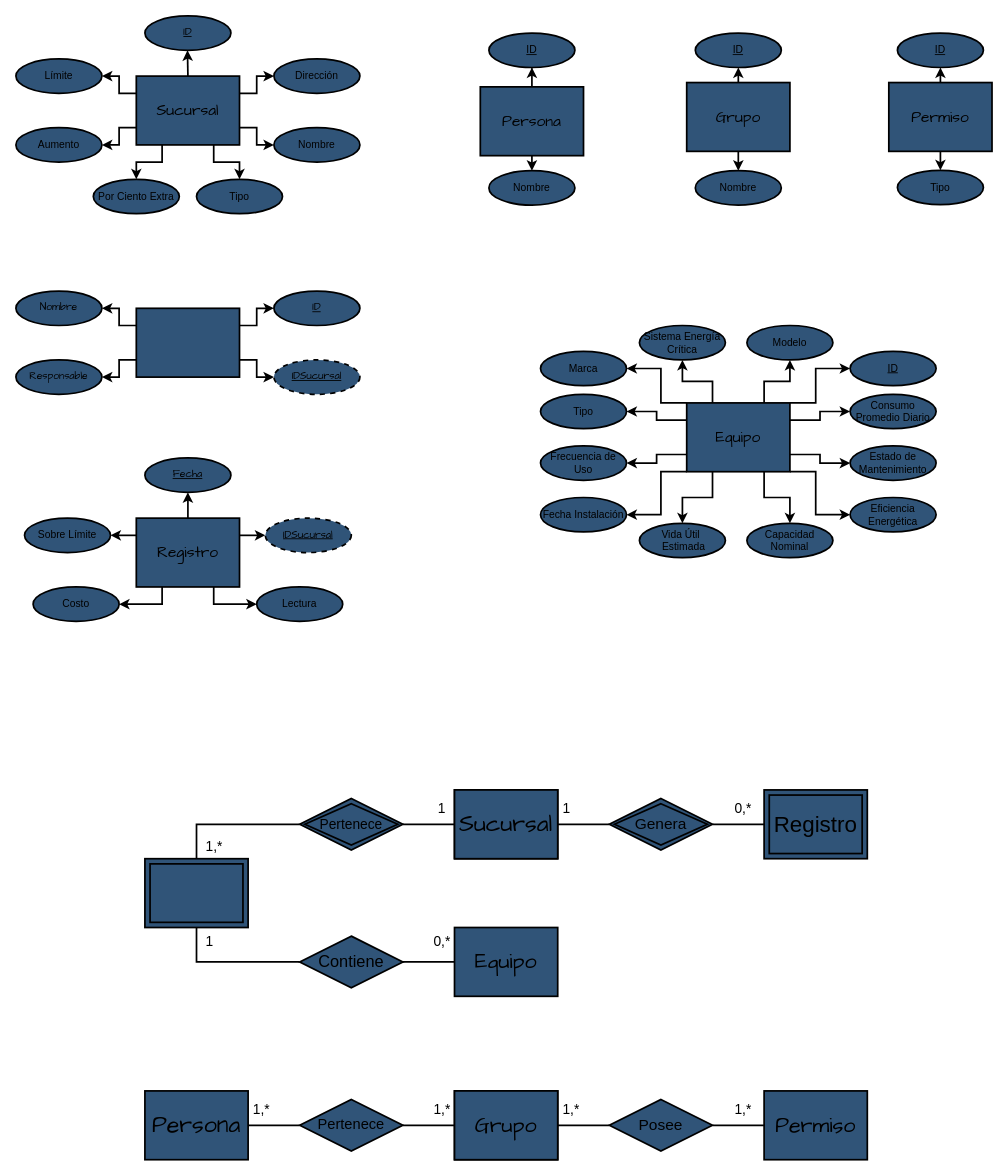
This 1007x1175 diagram has some shape labels left out. The shapes that lost their labels are listed below. From the top down, each one's centre as x and y in pixels, then its label:
At pixel 187 342: "Área".
At pixel 196 892: "Area".
